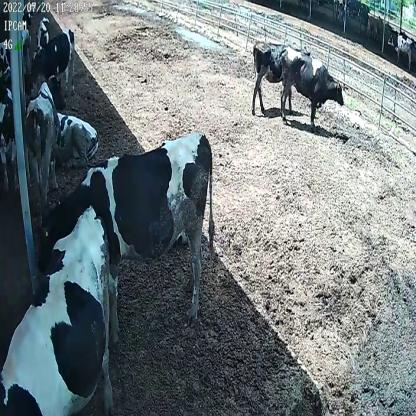cow: (38, 131, 217, 341), (279, 43, 344, 127), (26, 77, 64, 195), (250, 33, 294, 120), (24, 27, 77, 98), (34, 13, 50, 56)
